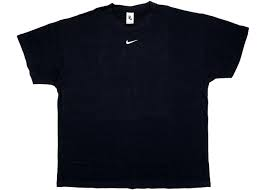nike: (119, 35, 146, 53)
